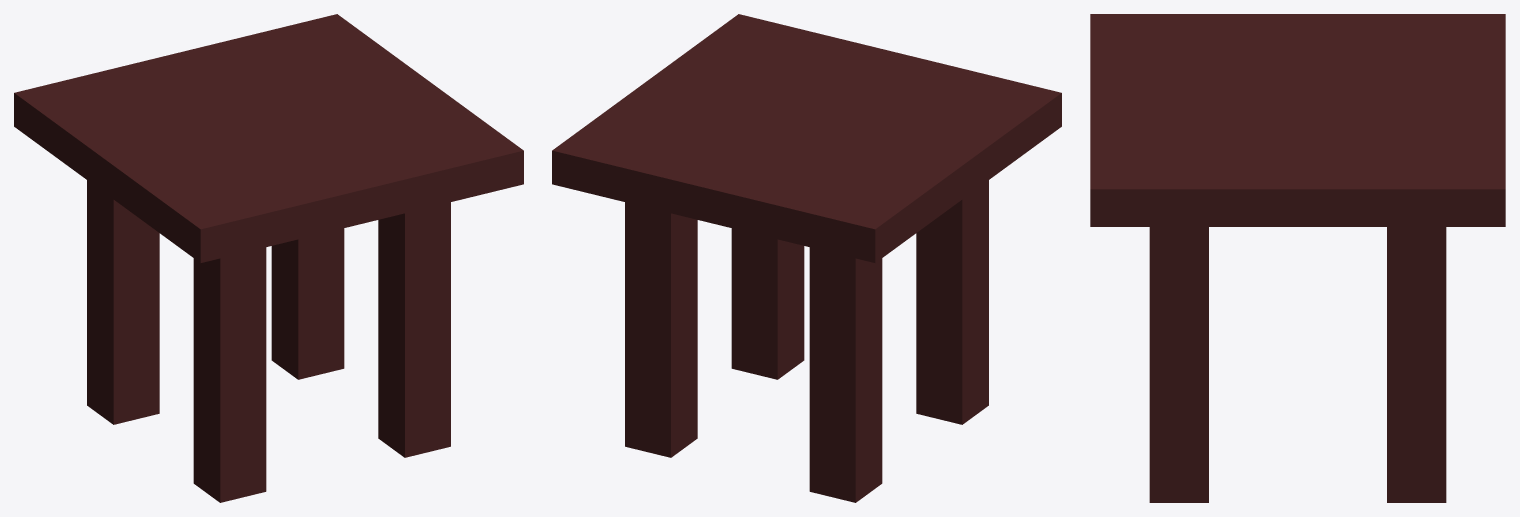
File: stolik.FBX
3 renders of one model, left to right at view 1: azimuth 30°, elevation 25°; view 2: azimuth 150°, elevation 25°; view 3: azimuth 270°, elevation 25°, orthographic. The views are drawn at different scales.
Parts seen in each view (by area): view 1: Box001; view 2: Box001; view 3: Box001.
Part boxes in pixels (x1,y1,x2,y2): Box001: (14, 14, 523, 502); Box001: (552, 14, 1061, 502); Box001: (1090, 14, 1505, 502).
Size of the model in its own units: 50 by 45 by 50.
